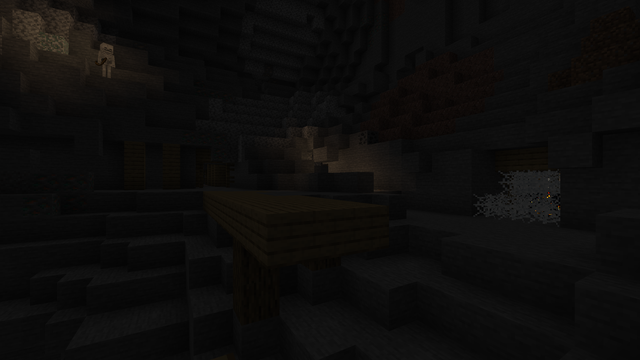squelettes: (99, 42, 113, 79)
